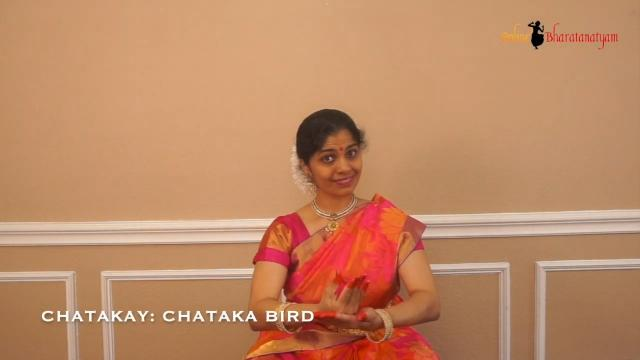kangul: (304, 268, 370, 312)
